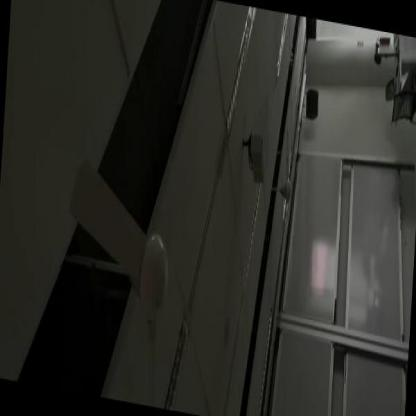light_off: (211, 1, 271, 140), (157, 304, 201, 415), (239, 183, 264, 294), (272, 14, 292, 85)
